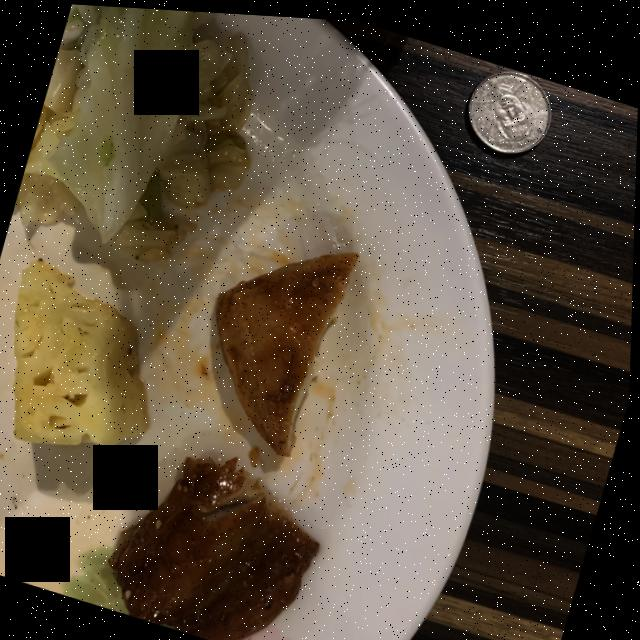Kabayaki sea bream fillet: (112, 454, 321, 640)
cabbage: (14, 3, 253, 260)
coin: (467, 64, 550, 146)
creamy tofu: (216, 247, 359, 452)
pineapple: (14, 259, 151, 444)
